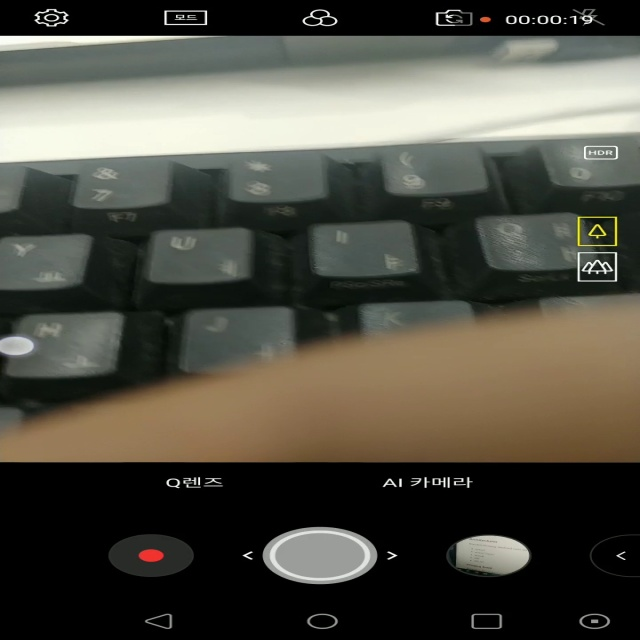Cursor: (1, 335, 40, 357)
